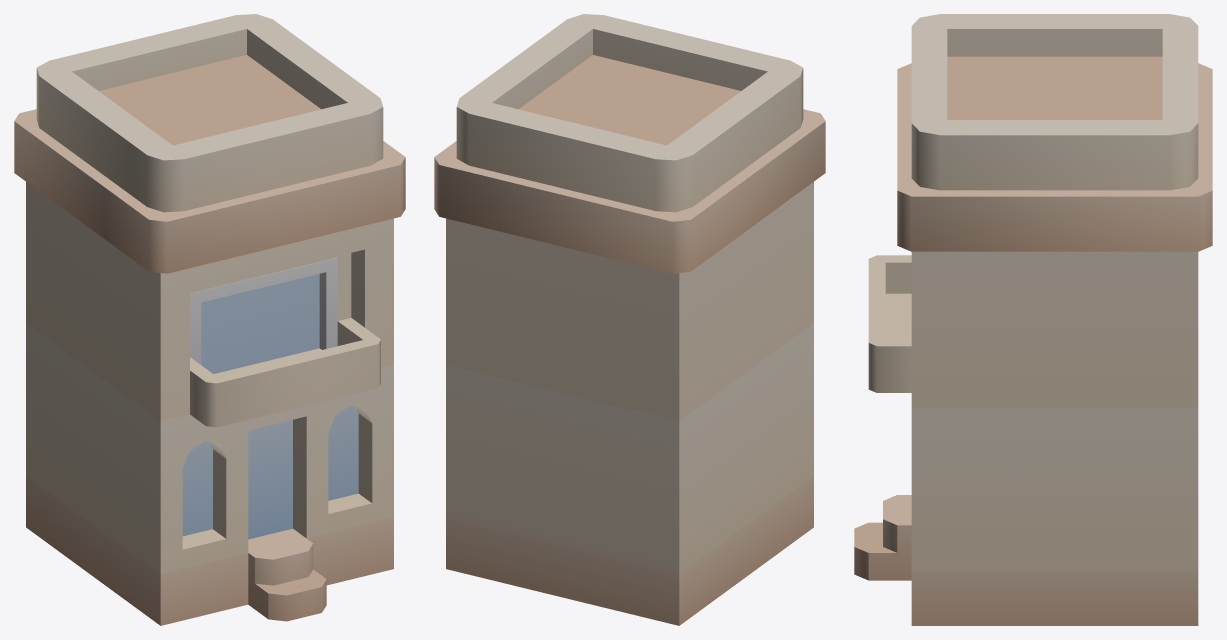
The model's file is building-sample-tower-b.glb.
The picture shows the model from 3 angles, left to right: view 1: azimuth 30°, elevation 25°; view 2: azimuth 150°, elevation 25°; view 3: azimuth 270°, elevation 25°; orthographic projection. The views are drawn at different scales.
Parts seen in each view (by area): view 1: building-sample-tower-b; view 2: building-sample-tower-b; view 3: building-sample-tower-b.
Boxes of the visible parts, bbox=[...] form: building-sample-tower-b: bbox=[14, 14, 405, 625]; building-sample-tower-b: bbox=[434, 14, 825, 625]; building-sample-tower-b: bbox=[854, 14, 1212, 625].
Size of the model in its own units: 1.1 by 1.89 by 1.25.
